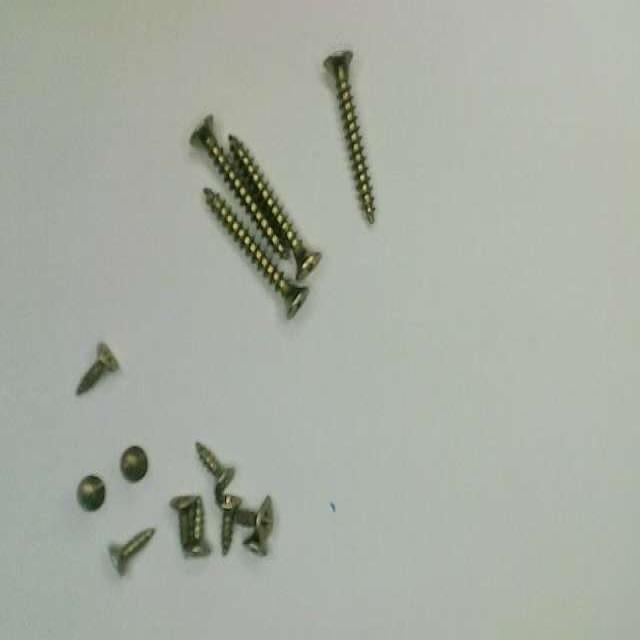Parafuso: (190, 115, 288, 258), (203, 188, 308, 318), (229, 135, 321, 279), (324, 51, 374, 223), (76, 343, 119, 394), (109, 528, 154, 575), (195, 442, 234, 490), (184, 496, 211, 557), (237, 496, 273, 541), (170, 496, 195, 555), (219, 495, 241, 554), (77, 475, 105, 510), (120, 446, 147, 482), (243, 530, 266, 555)
